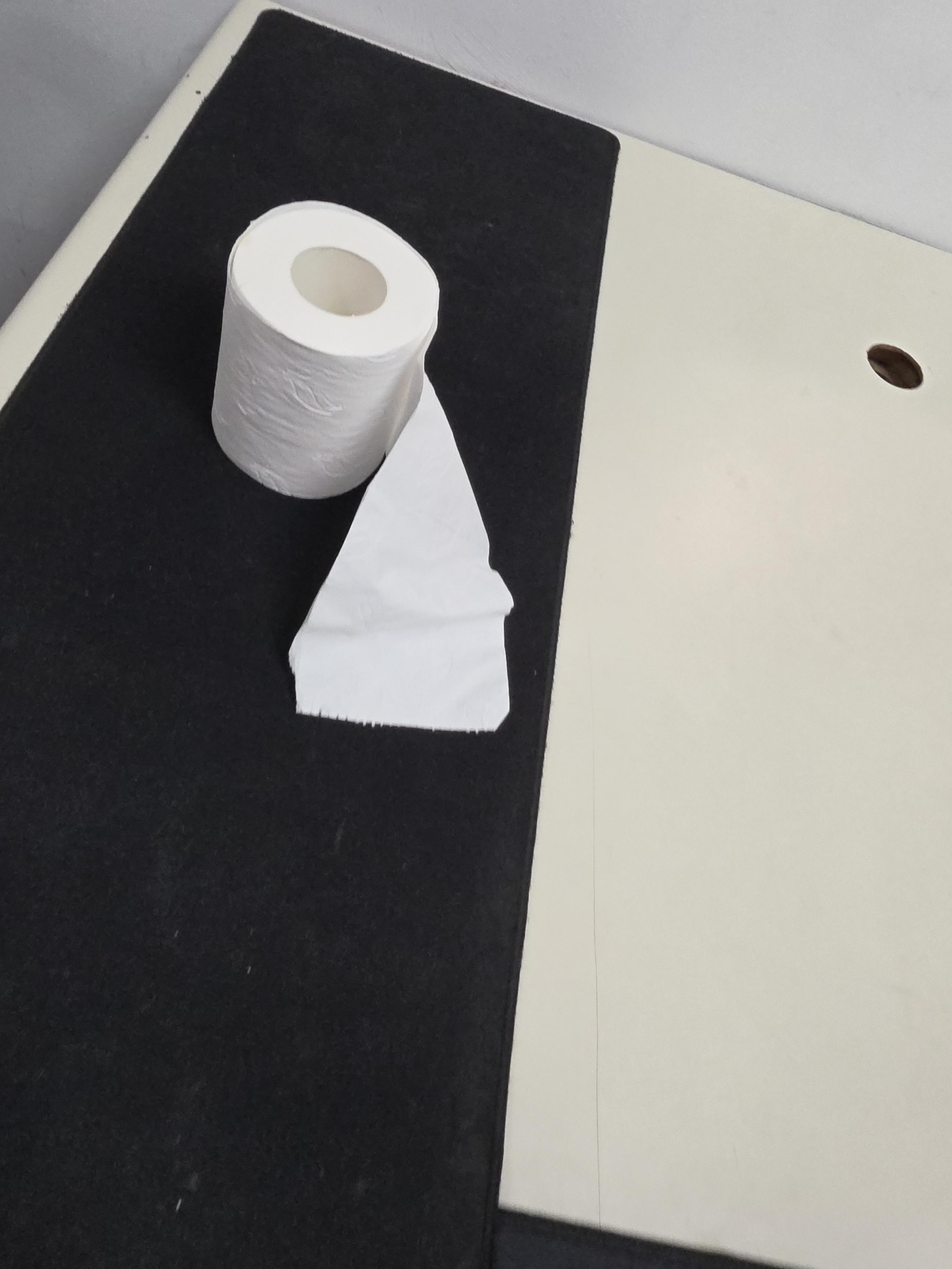tissue: (211, 200, 516, 735)
